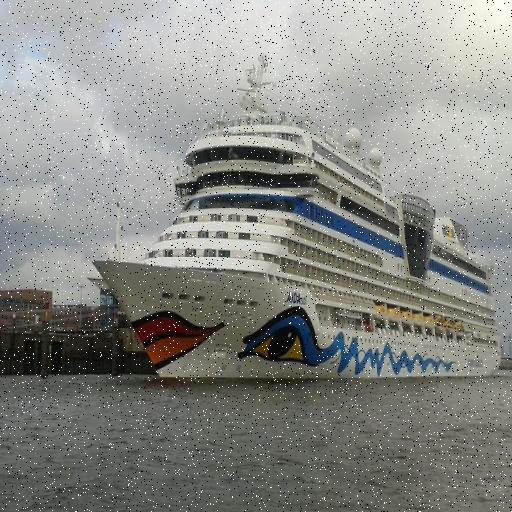cruises: (88, 56, 507, 390)
